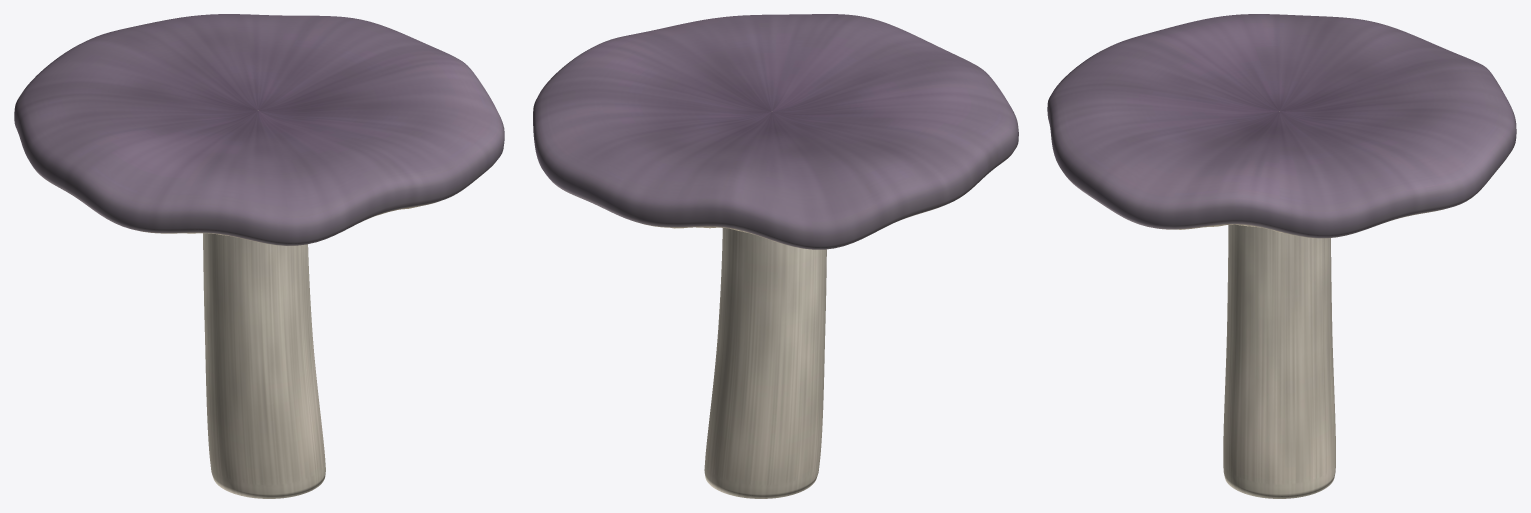
The model's file is lactarius-trivialis-agg-drawn.glb.
3 renders of one model, left to right at view 1: azimuth 30°, elevation 25°; view 2: azimuth 150°, elevation 25°; view 3: azimuth 270°, elevation 25°, orthographic. The views are drawn at different scales.
Bounding box in the file's own units: 0.8733 × 0.7727 × 0.8748.
1 material, 1 textured.
